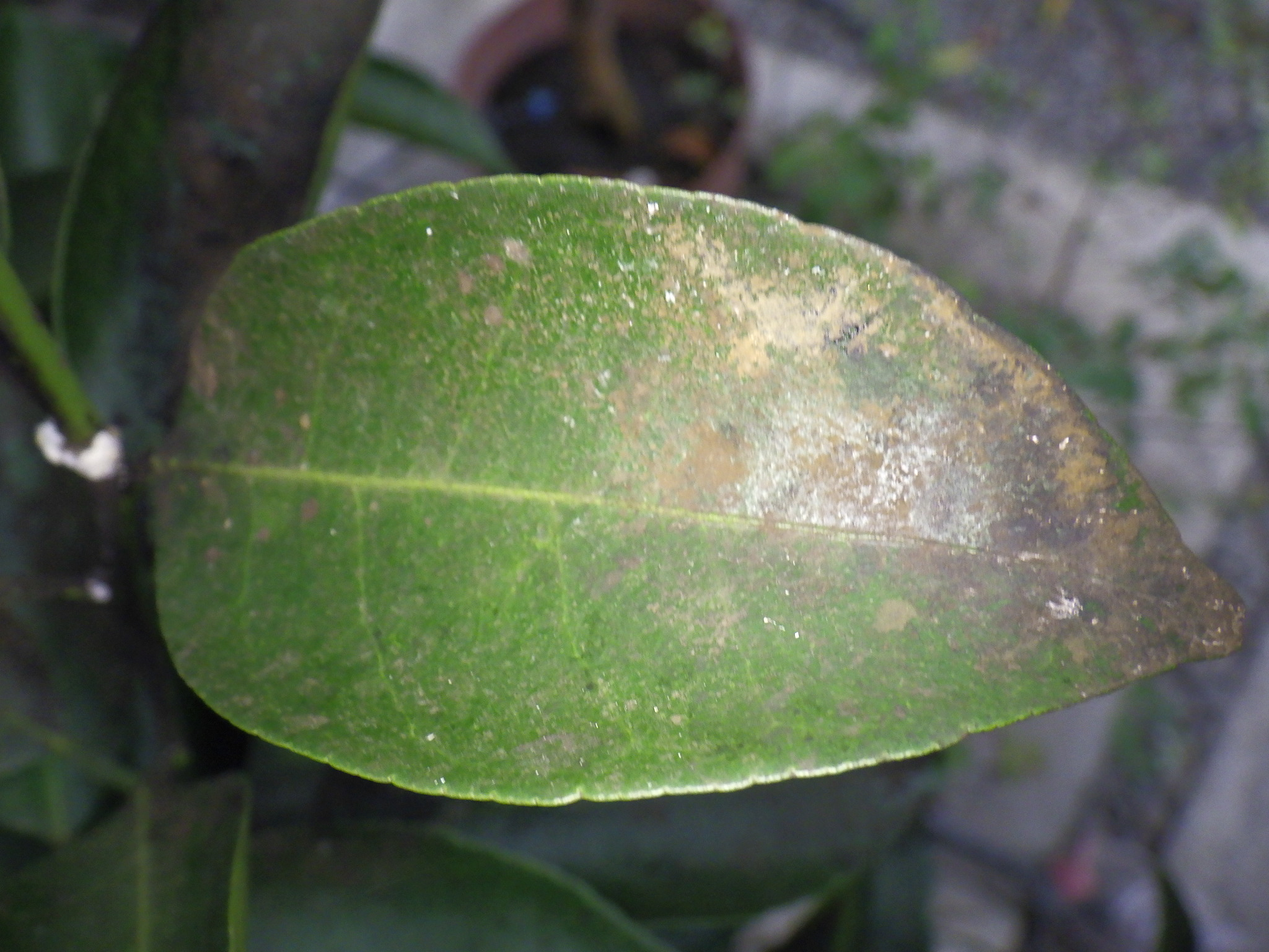Sooty_Mold: (153, 177, 1240, 803)
